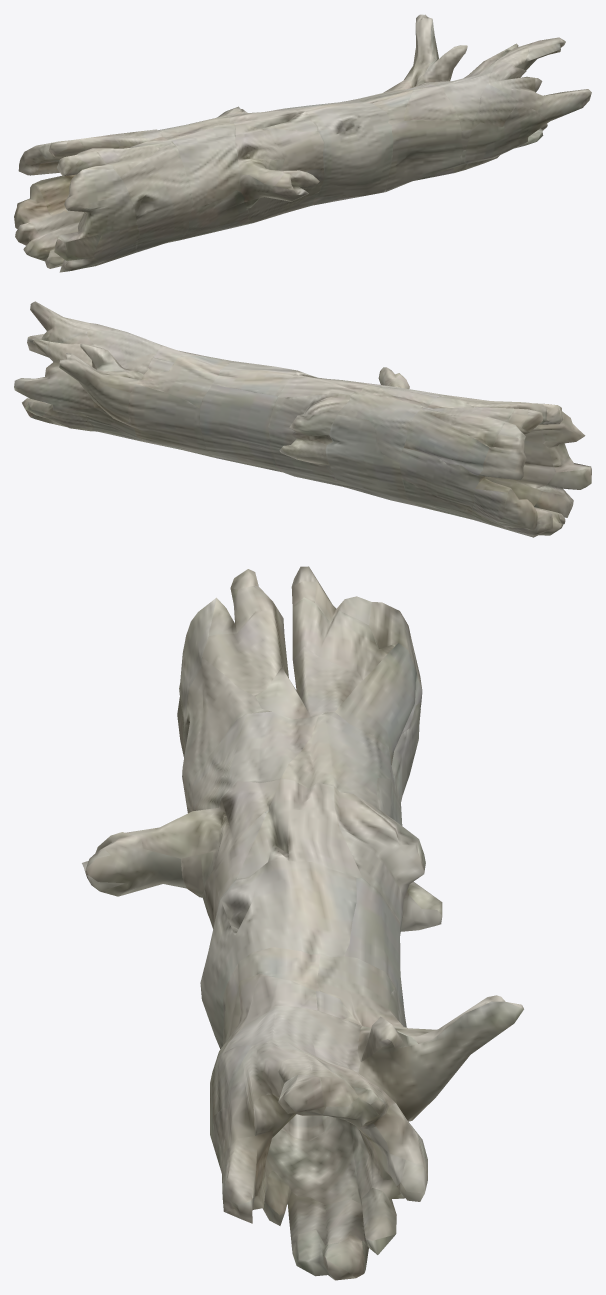
Rendered from driftwood.glb.
3 views of the same model, one above another, from view 1: azimuth 30°, elevation 25°; view 2: azimuth 150°, elevation 25°; view 3: azimuth 270°, elevation 25° (orthographic). The views are drawn at different scales.
Size of the model in its own units: 1.9 by 0.3781 by 0.6638.
Materials: 1 (1 with a texture image).
